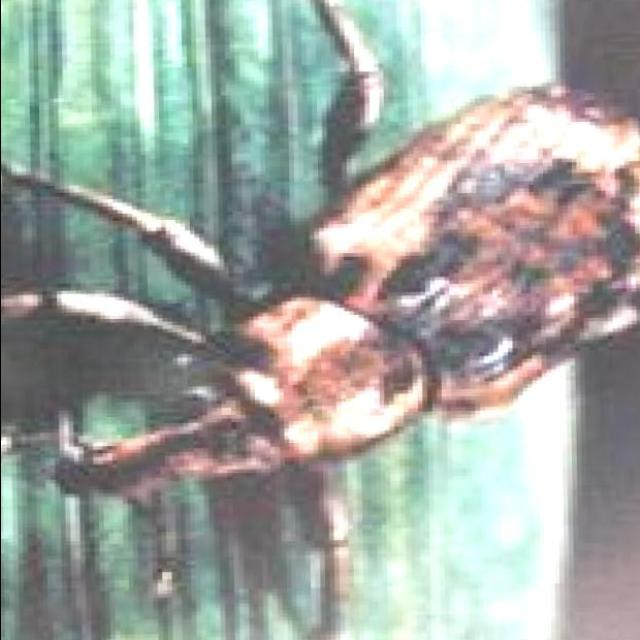ricebug: (0, 0, 640, 501)
